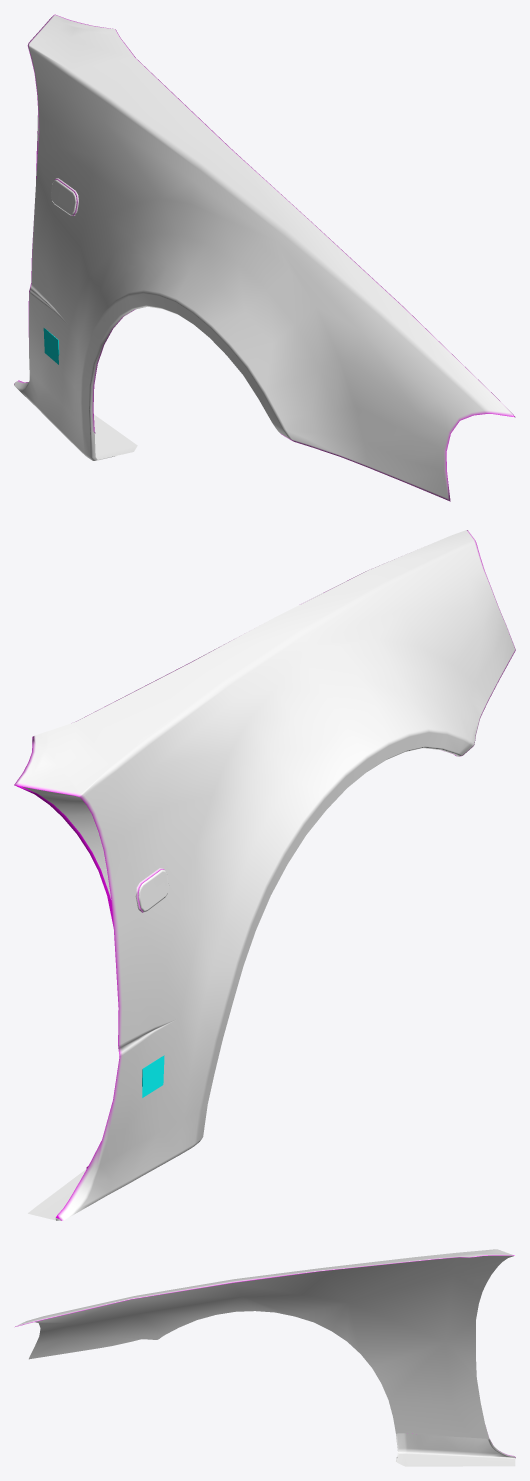
Rendered from Car_Nissan_SkylineGTRVspecR34_1999_FenderFR_SetA_AltB.fbx.
3 views of the same model, one above another, from view 1: azimuth 30°, elevation 25°; view 2: azimuth 150°, elevation 25°; view 3: azimuth 270°, elevation 25° (orthographic). The views are drawn at different scales.
Visible parts, largest first — view 1: FenderFR 6; view 2: FenderFR 6; view 3: FenderFR 6.
Boxes of the visible parts, box(x1,y1,x2,y2) form: FenderFR 6: box(14, 14, 515, 501); FenderFR 6: box(14, 530, 515, 1220); FenderFR 6: box(15, 1249, 515, 1466).
Size of the model in its own units: 0.2093 by 0.6196 by 1.29.
